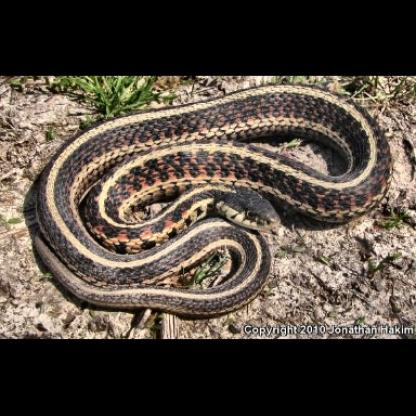Snake: (14, 99, 414, 336)
